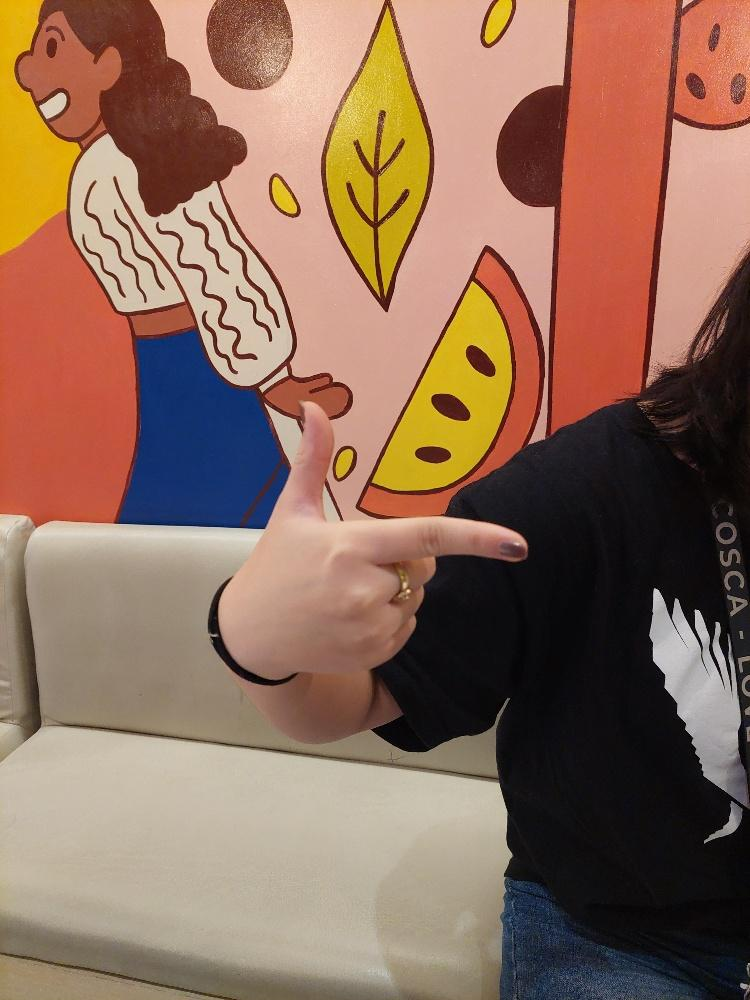g: (208, 394, 531, 676)
